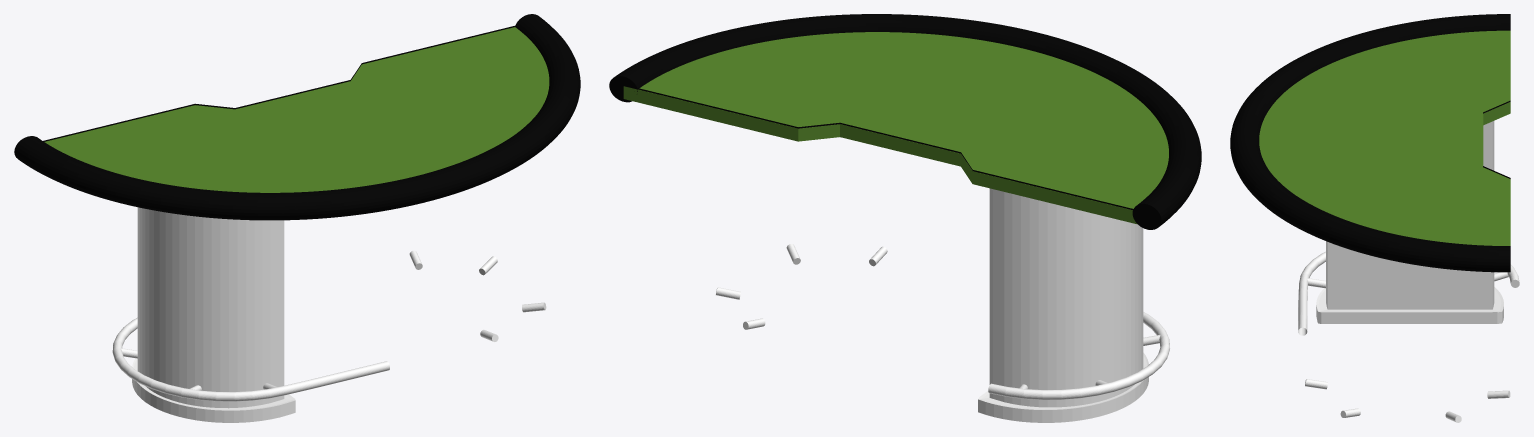
The model's file is table.glb.
3 renders of one model, left to right at view 1: azimuth 30°, elevation 25°; view 2: azimuth 150°, elevation 25°; view 3: azimuth 270°, elevation 25°, orthographic. The views are drawn at different scales.
Parts seen in each view (by area): view 1: Table top, Table legs, arm rest (for players), Leg bar, Rubber pad strip; view 2: Table top, Table legs, arm rest (for players), Leg bar, Rubber pad strip; view 3: Table top, arm rest (for players), Table legs, table leg bottom, Leg bar.
Part boxes in pixels (x1,y1,x2,y2): Table top: (44, 27, 549, 192); Table legs: (132, 207, 295, 422); arm rest (for players): (14, 14, 580, 220); Leg bar: (112, 317, 389, 401); Rubber pad strip: (43, 26, 515, 141); Table top: (623, 32, 1168, 224); Table legs: (978, 188, 1148, 422); arm rest (for players): (609, 14, 1201, 229); Leg bar: (988, 312, 1169, 399); Rubber pad strip: (637, 88, 1133, 210); Table top: (1259, 30, 1510, 245); arm rest (for players): (1230, 14, 1510, 272); Table legs: (1316, 121, 1503, 323); table leg bottom: (1325, 306, 1503, 323); Leg bar: (1298, 251, 1519, 335).
Bounding box in the file's own units: 2.37 × 1.04 × 1.18.
